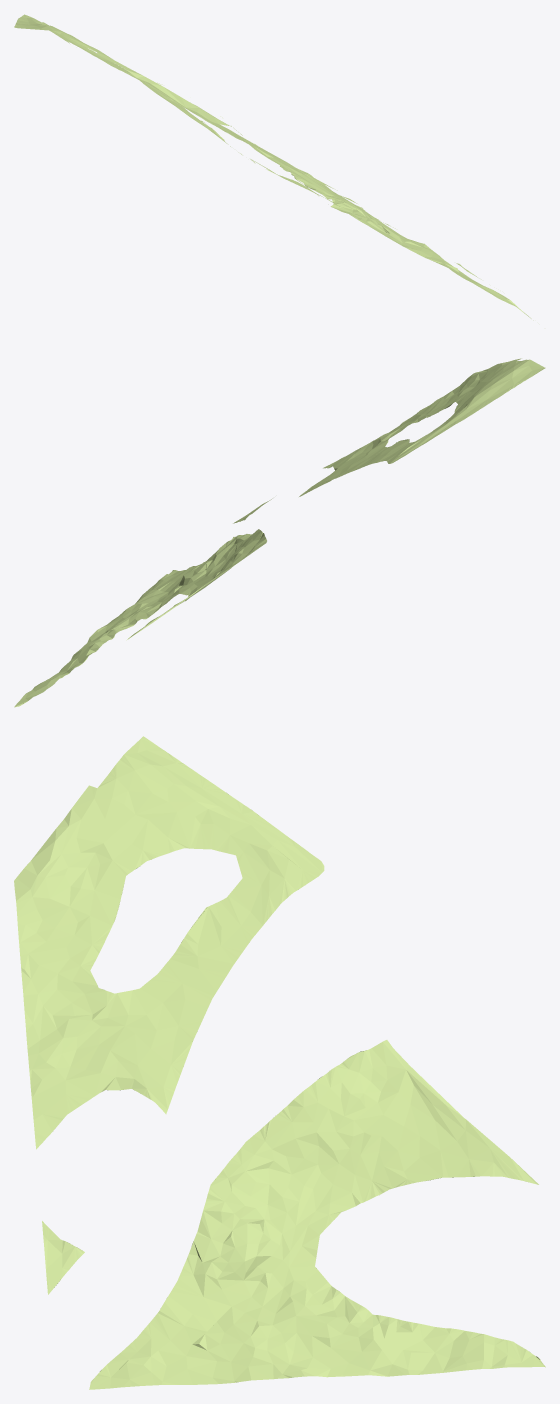
The picture shows the model from 3 angles, top to bottom: view 1: azimuth 30°, elevation 25°; view 2: azimuth 150°, elevation 25°; view 3: azimuth 270°, elevation 25°; orthographic projection. The views are drawn at different scales.
Bounding box in the file's own units: 215 × 165 × 195.
